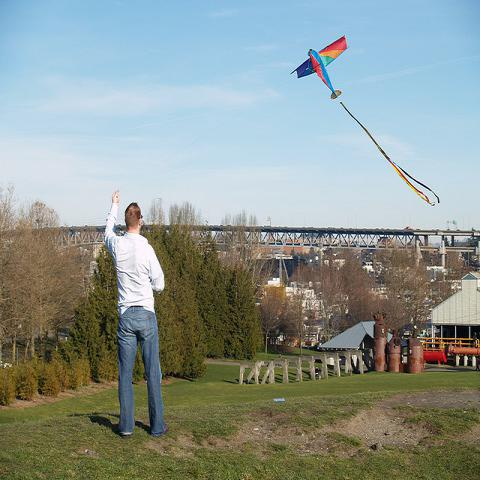car: (313, 342, 319, 351), (404, 226, 413, 229), (326, 226, 335, 229), (386, 228, 390, 230), (375, 228, 379, 230), (415, 229, 422, 230), (349, 228, 354, 229), (340, 227, 344, 228), (381, 228, 384, 229)
